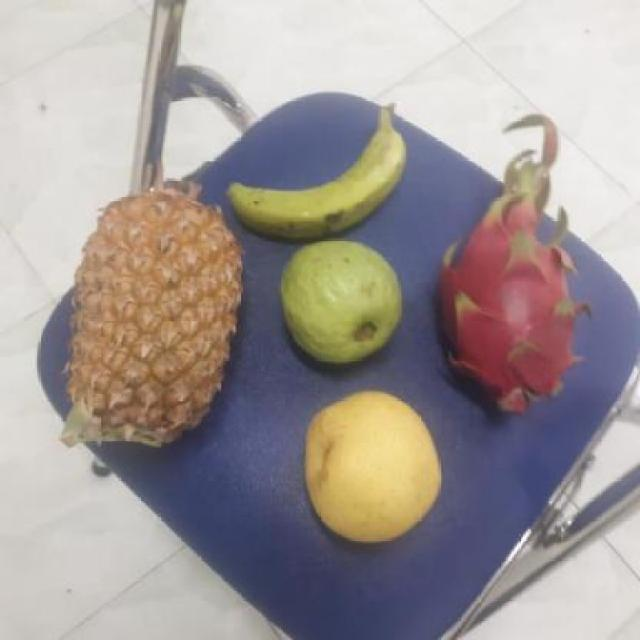banana: (223, 111, 408, 243)
dragon fruit: (429, 196, 586, 419)
guava: (275, 242, 402, 362)
pear: (298, 388, 445, 544)
pineapple: (52, 202, 240, 447)
